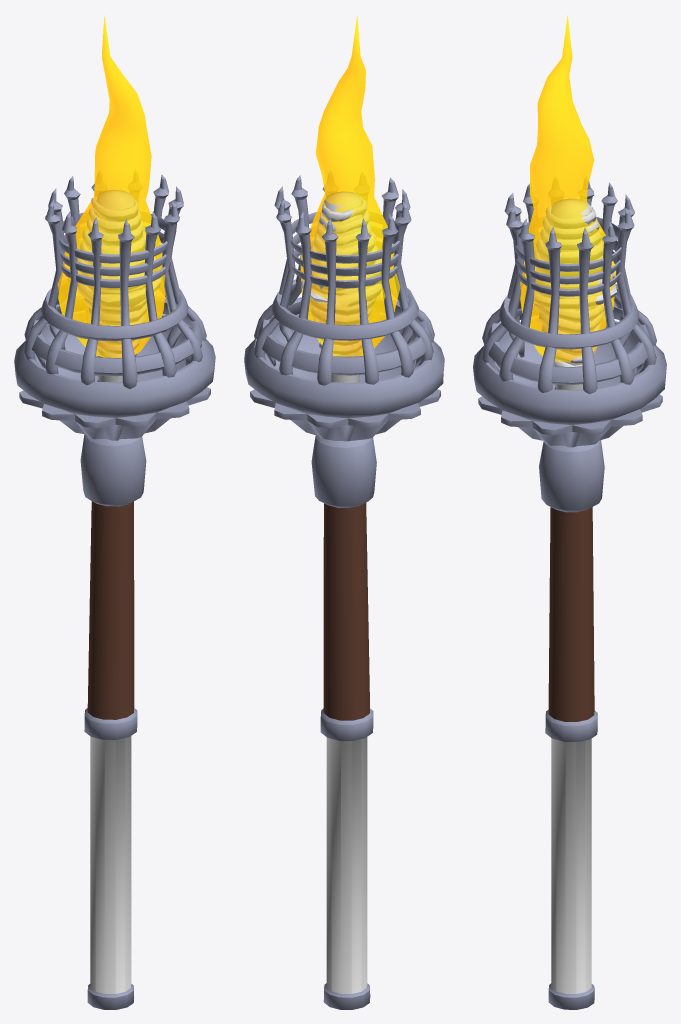
File: antorcha_encendida.fbx
3 views of the same model, side by side, from view 1: azimuth 30°, elevation 25°; view 2: azimuth 150°, elevation 25°; view 3: azimuth 270°, elevation 25° (orthographic).
Visible parts, largest first — view 1: antorcha, ant_llama; view 2: antorcha, ant_llama; view 3: antorcha, ant_llama.
Part boxes in pixels (x1,y1,x2,y2): antorcha: (14,174,215,1009); ant_llama: (57,15,165,357); antorcha: (244,175,444,1009); ant_llama: (300,15,400,356); antorcha: (473,181,666,1009); ant_llama: (520,15,615,362).
Size of the model in its own units: 17.91 by 96.74 by 17.22.
